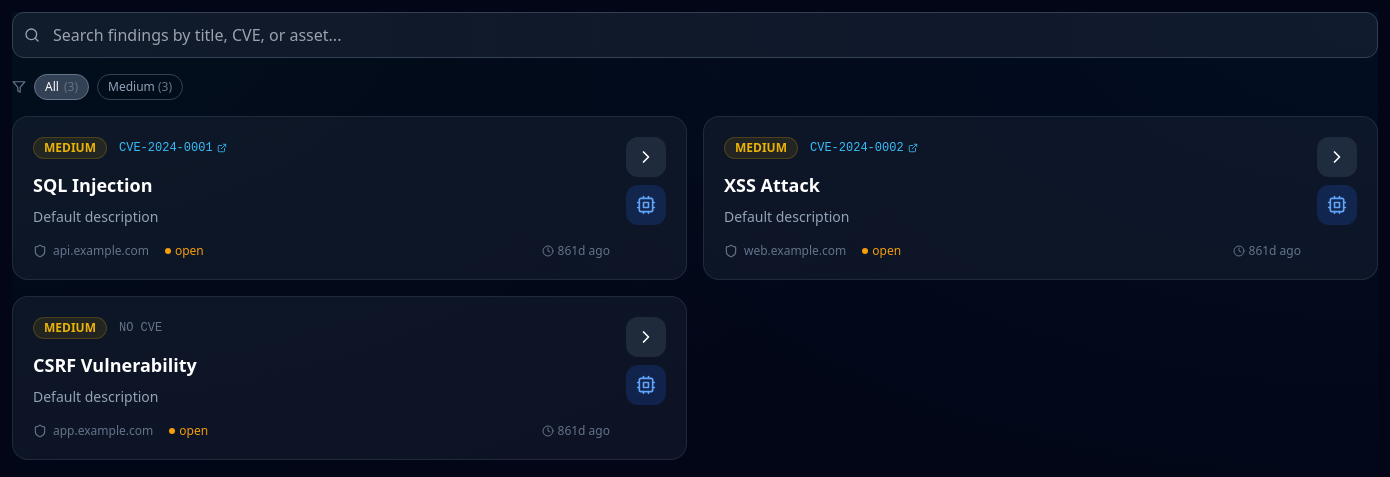
VulnerabilityList › filters vulnerabilities by asset
Type "web.example" into the field with placeholder "Search findings by title, CVE, or asset..." at (695, 35), box x1=12 y1=12 x2=1378 y2=58
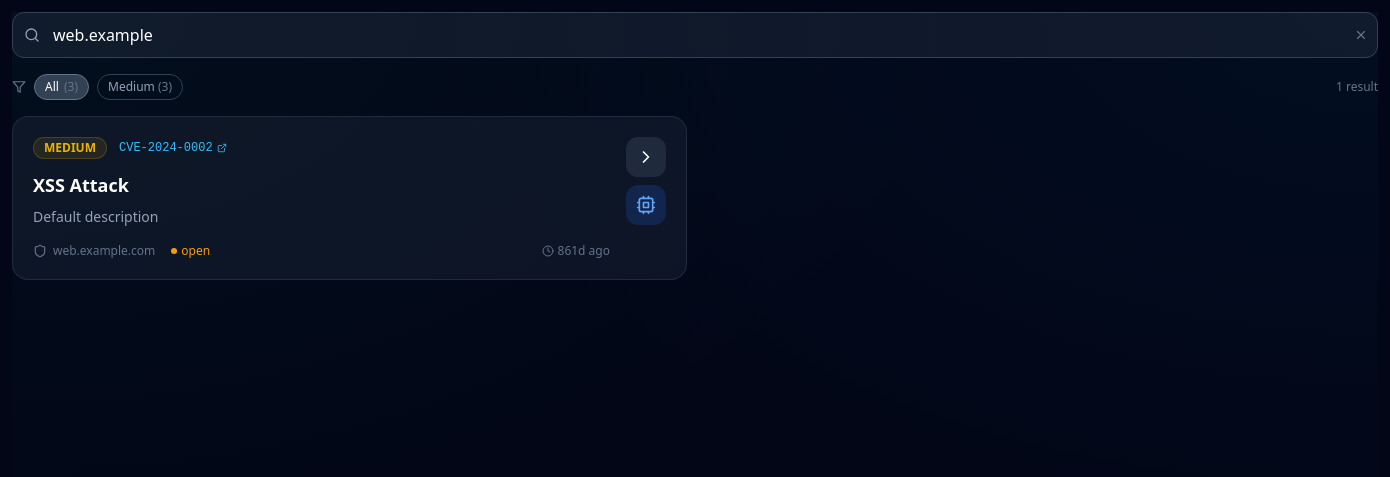
Check: the heading "XSS Attack" is shown, box x1=33 y1=173 x2=129 y2=197
Check: the heading "SQL Injection" is gone
